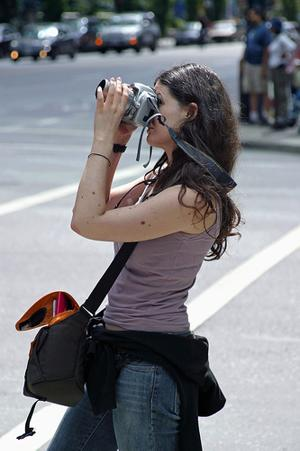person: (70, 63, 237, 448)
